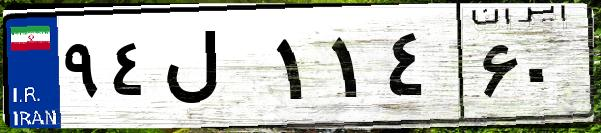0: (525, 38, 570, 115)
1: (270, 28, 330, 110), (330, 28, 385, 110)
4: (385, 28, 445, 110), (110, 28, 158, 98)
6: (475, 38, 525, 113)
9: (57, 26, 110, 100)
ل: (158, 20, 270, 120)
